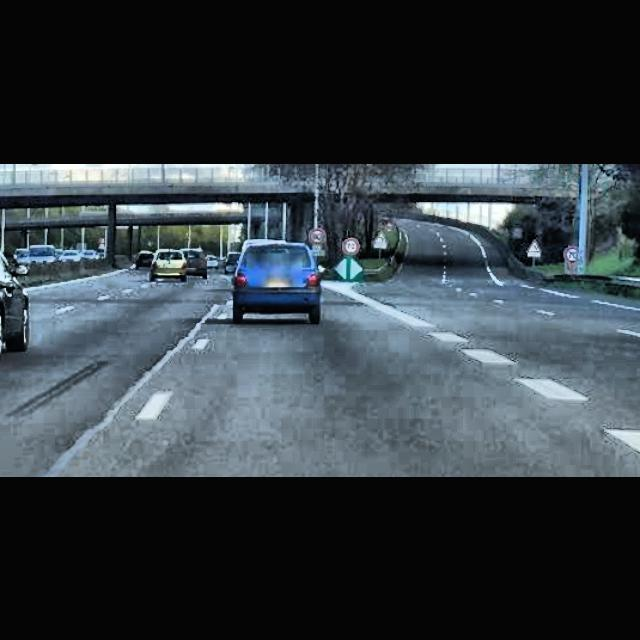speed_70: (566, 247, 580, 261)
